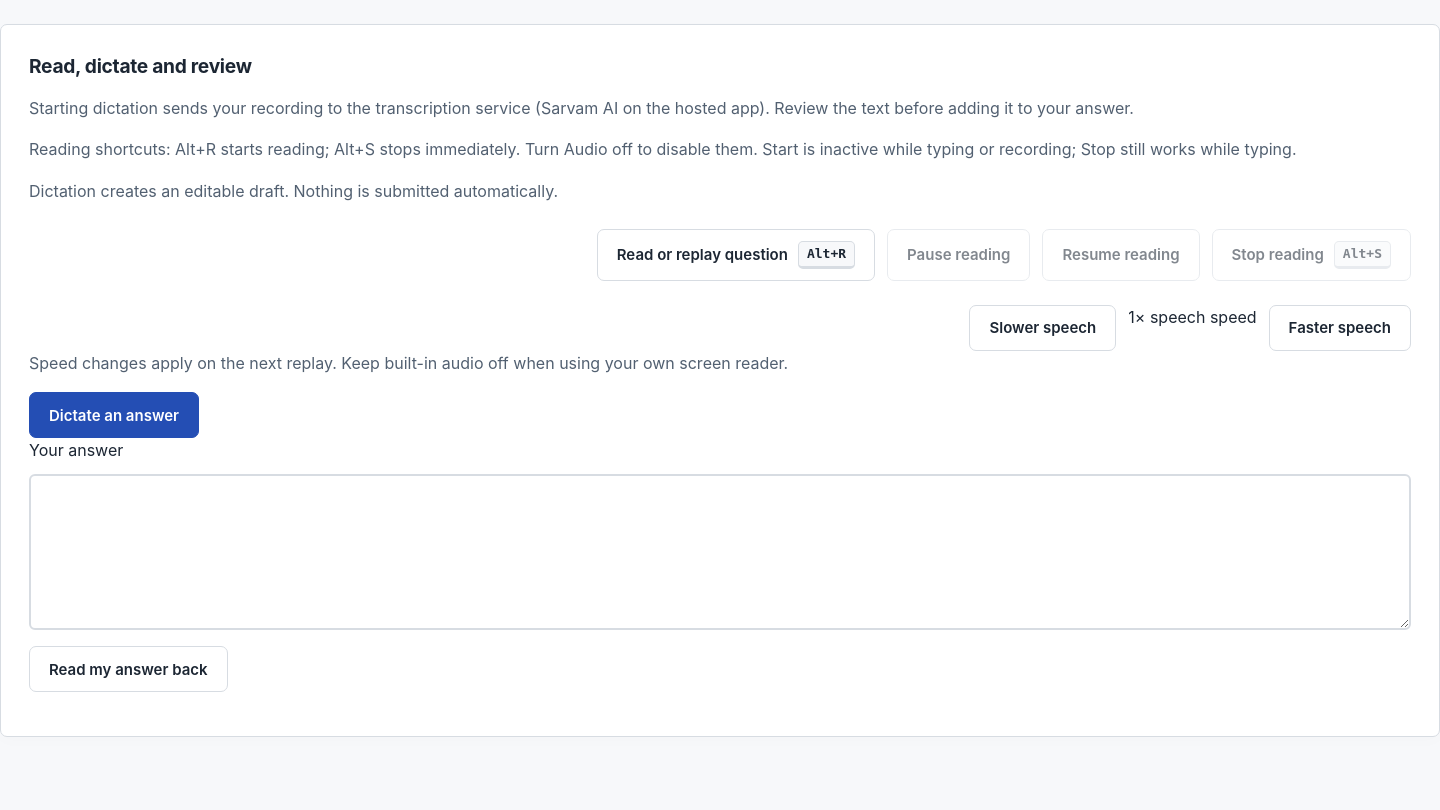
Test: audio controls › handles unavailable microphone and keeps keyboard input
What coordinates should you click on to do the following:
click the button "Dictate an answer"
I would click on:
 (114, 415)
Its box is [29,392,199,438].
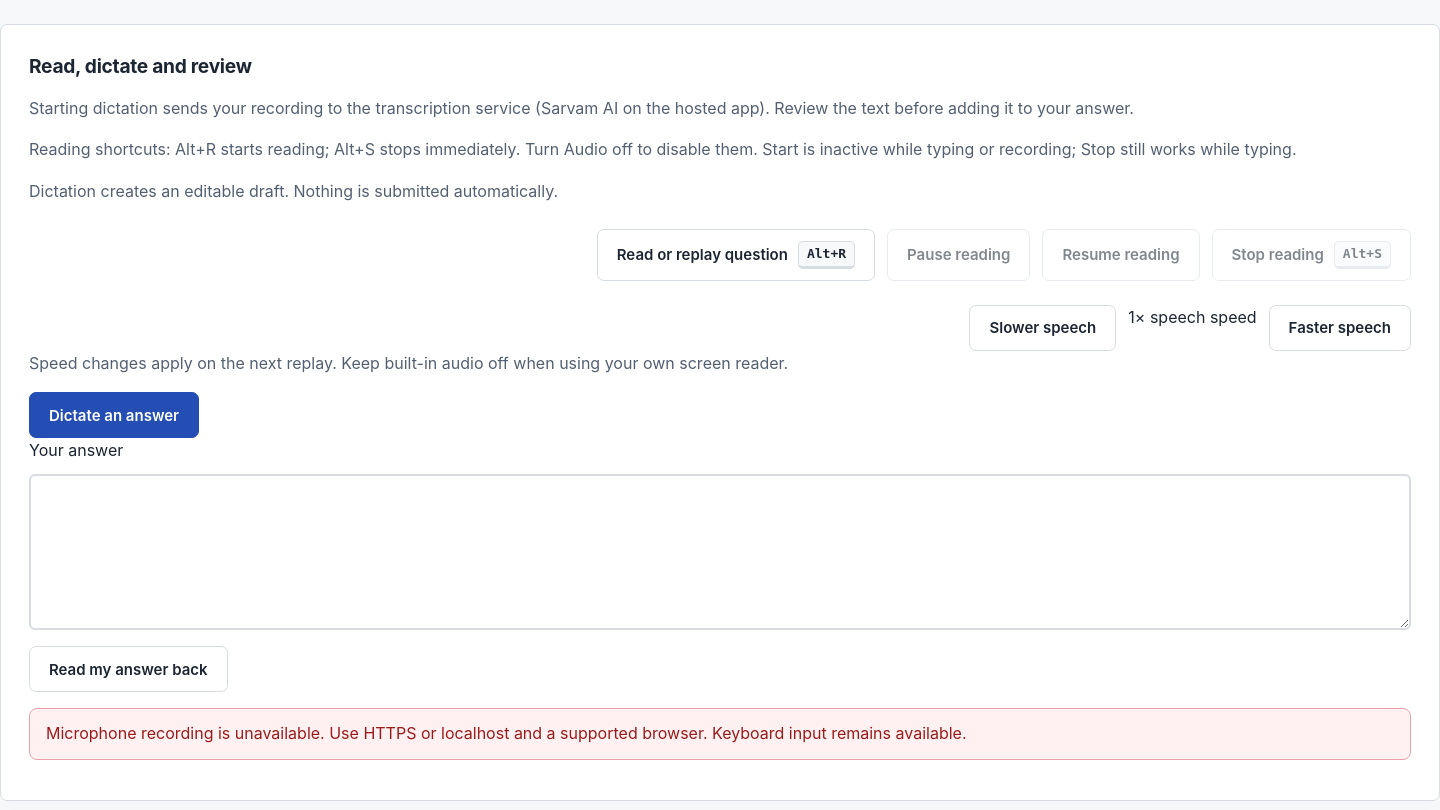
Check: the text box labelled "Your answer" is enabled, box [29,474,1411,630]
Check: the message shows "unavailable", box [46,723,966,743]
